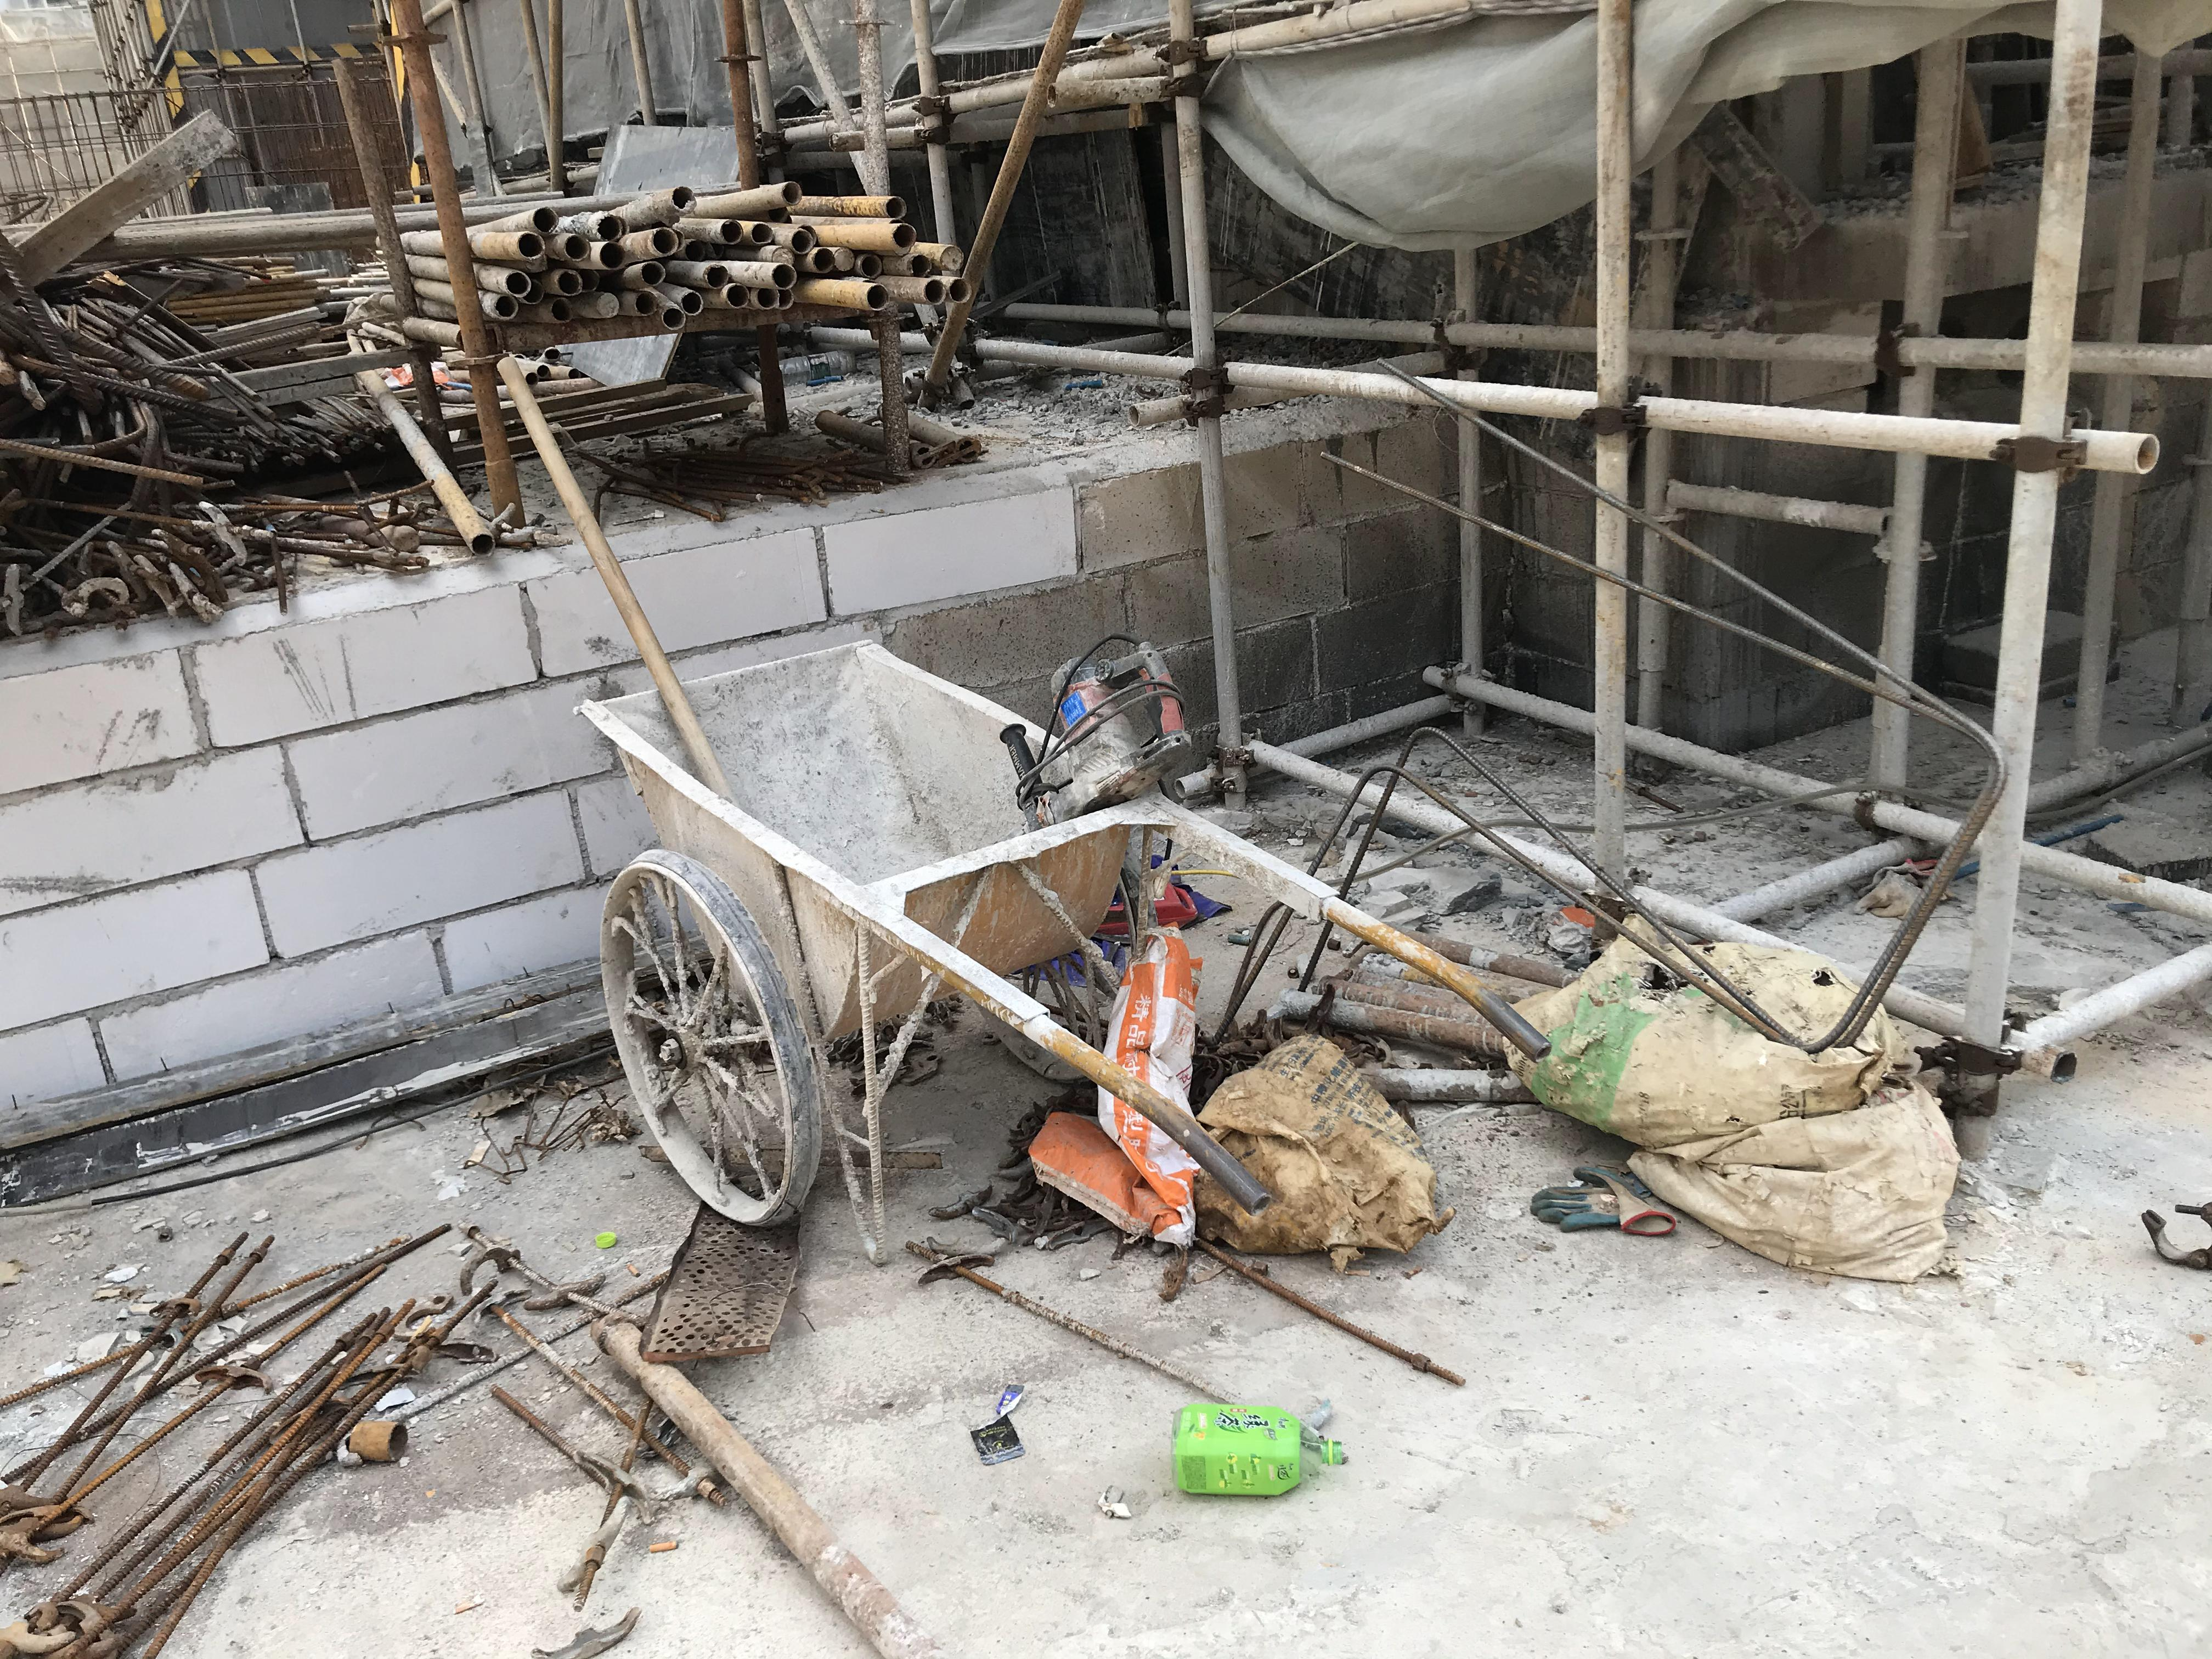handcart: (573, 636, 1555, 1246)
